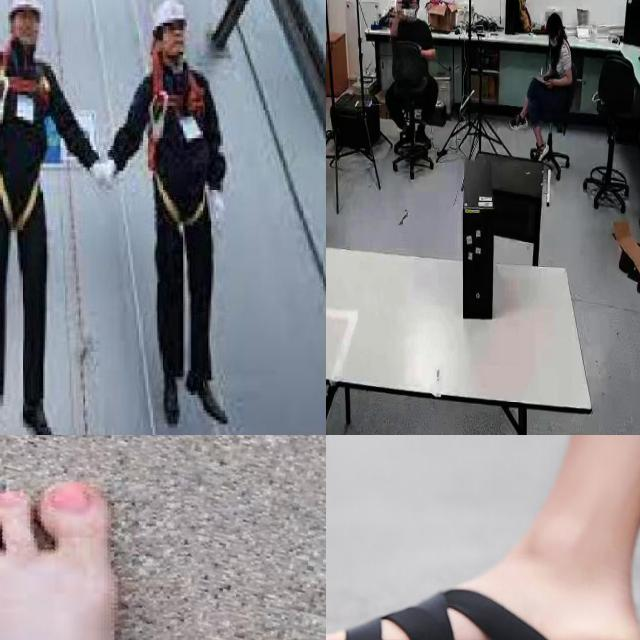Barefoots: (0, 483, 157, 640)
Harness: (146, 66, 214, 234), (0, 41, 48, 236)
face_mask: (546, 24, 562, 54), (400, 0, 419, 20)
glasses: (414, 121, 433, 148), (532, 134, 550, 161), (508, 109, 529, 132)
hand_noglove: (544, 76, 554, 91), (395, 0, 402, 12)
head_nohelmet: (545, 12, 563, 24)
person: (512, 7, 576, 166), (387, 0, 438, 80)
